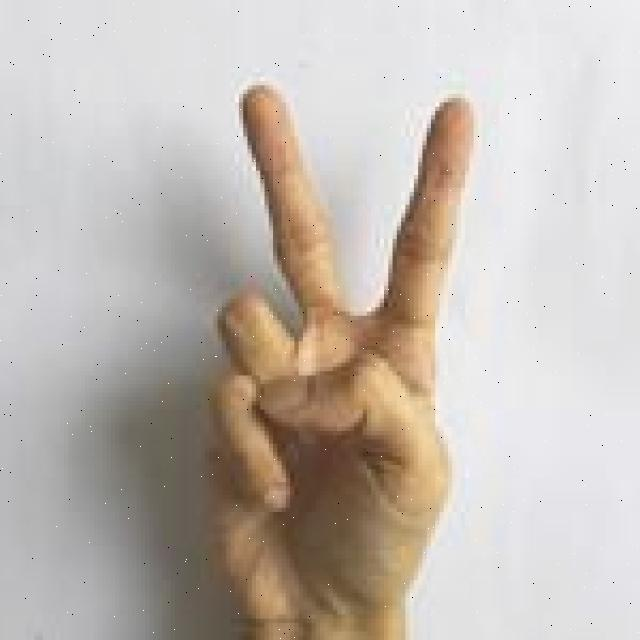V: (186, 75, 482, 640)
